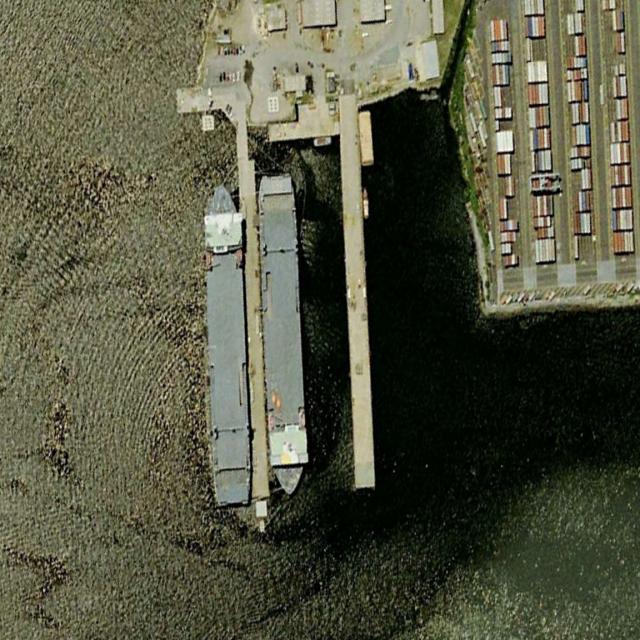Cargo: (256, 170, 311, 497), (200, 181, 254, 510)
